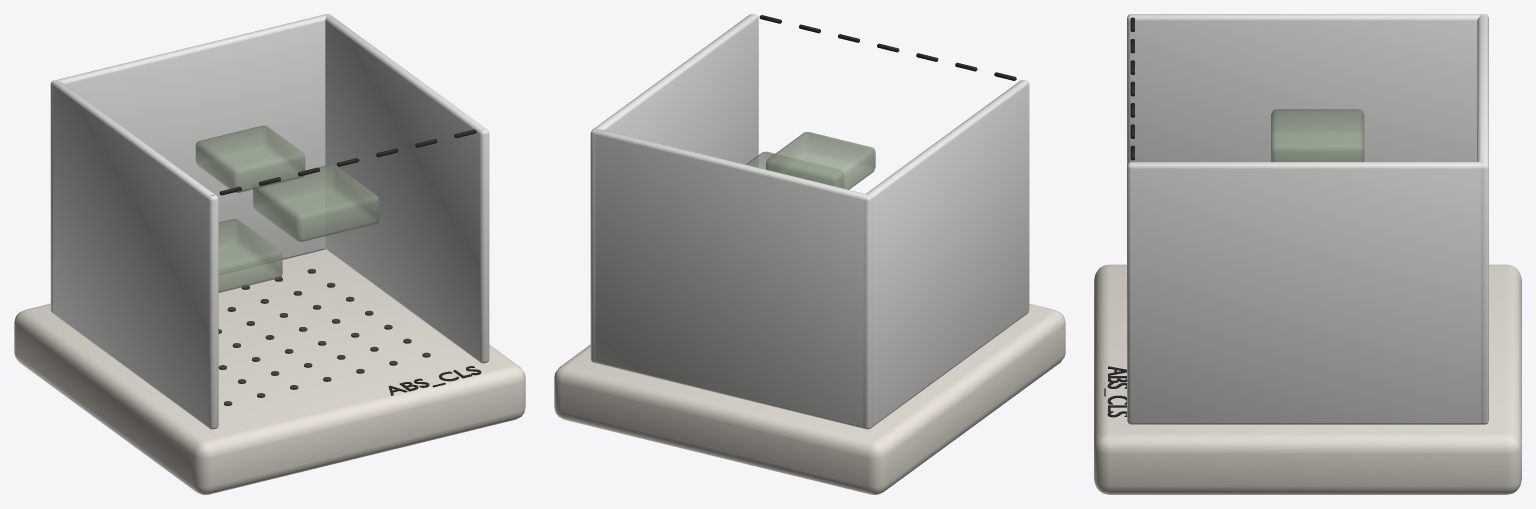
File: abstract_class.glb
The picture shows the model from 3 angles, left to right: view 1: azimuth 30°, elevation 25°; view 2: azimuth 150°, elevation 25°; view 3: azimuth 270°, elevation 25°; orthographic projection. The views are drawn at different scales.
Visible parts, largest first — view 1: AbsPlinth, LeftWall, RightWall, BackWall, AbstractMethodSlot_1, AbstractMethodSlot_2, AbstractMethodSlot_0, Label_ABS_CLS; view 2: BackWall, LeftWall, AbsPlinth, RightWall, AbstractMethodSlot_2, AbstractMethodSlot_1; view 3: RightWall, LeftWall, AbsPlinth, AbstractMethodSlot_2, BackWall, Label_ABS_CLS.
Part boxes in pixels (x1=…): AbsPlinth: x1=14, y1=249, x2=525, y2=494; LeftWall: x1=50, y1=80, x2=218, y2=429; RightWall: x1=325, y1=14, x2=489, y2=363; BackWall: x1=51, y1=14, x2=330, y2=312; AbstractMethodSlot_1: x1=253, y1=164, x2=379, y2=241; AbstractMethodSlot_2: x1=195, y1=125, x2=305, y2=192; AbstractMethodSlot_0: x1=218, y1=218, x2=282, y2=292; Label_ABS_CLS: x1=388, y1=366, x2=481, y2=395; BackWall: x1=590, y1=128, x2=872, y2=429; LeftWall: x1=863, y1=80, x2=1029, y2=428; AbsPlinth: x1=554, y1=303, x2=1065, y2=494; RightWall: x1=591, y1=14, x2=758, y2=362; AbstractMethodSlot_2: x1=766, y1=132, x2=875, y2=189; AbstractMethodSlot_1: x1=746, y1=151, x2=843, y2=187; RightWall: x1=1127, y1=162, x2=1487, y2=424; LeftWall: x1=1127, y1=14, x2=1486, y2=165; AbsPlinth: x1=1094, y1=264, x2=1521, y2=494; AbstractMethodSlot_2: x1=1271, y1=109, x2=1364, y2=161; BackWall: x1=1477, y1=14, x2=1488, y2=424; Label_ABS_CLS: x1=1104, y1=366, x2=1126, y2=417.
Bounding box in the file's own units: 2.2 × 1.83 × 2.2.
